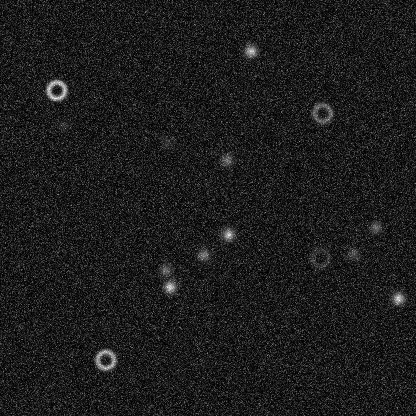Ring: (44, 78, 68, 102), (93, 347, 117, 371), (310, 100, 334, 124), (308, 245, 332, 269)
Spot: (157, 261, 173, 277), (54, 117, 70, 133), (159, 134, 175, 150), (218, 152, 234, 168), (195, 246, 211, 262), (367, 219, 383, 235), (242, 43, 258, 59), (345, 245, 361, 261), (220, 226, 236, 242), (161, 278, 177, 294), (390, 290, 406, 306)
